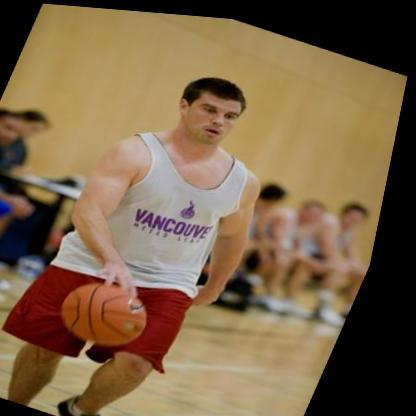basketball: (60, 270, 171, 355)
